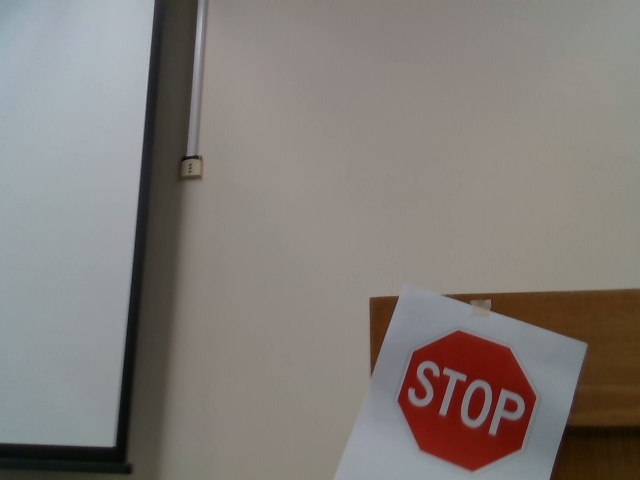stop: (394, 328, 541, 474)
